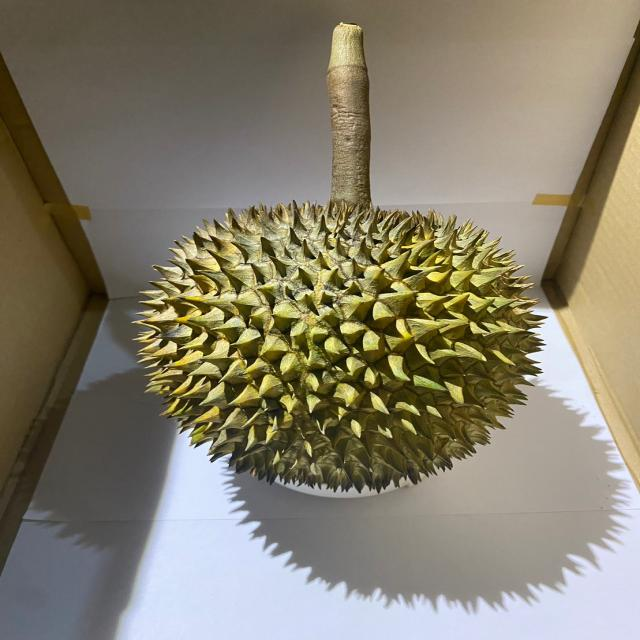immature: (134, 198, 546, 497)
